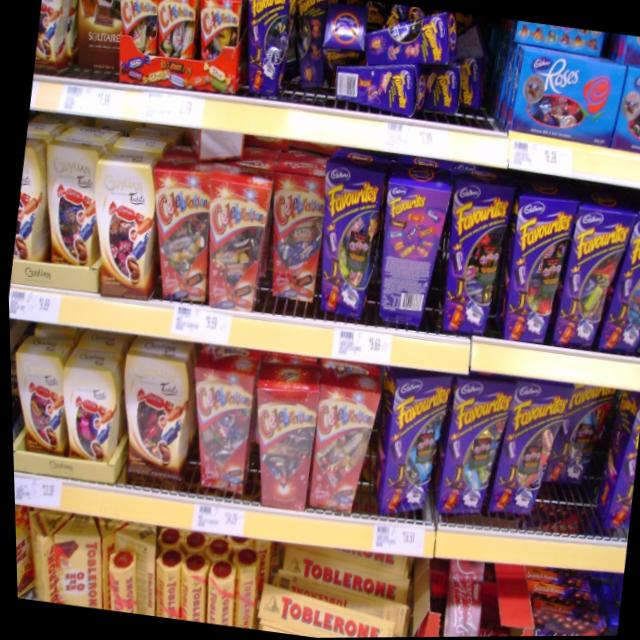q34: (269, 547, 415, 617), (249, 585, 394, 639)
